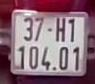0: (58, 45, 71, 73), (28, 43, 39, 71)
1: (66, 16, 77, 44), (17, 45, 27, 71), (72, 44, 81, 71)
3: (21, 16, 34, 42)
4: (40, 45, 52, 71)
7: (34, 16, 46, 44)
H: (53, 17, 67, 43)
